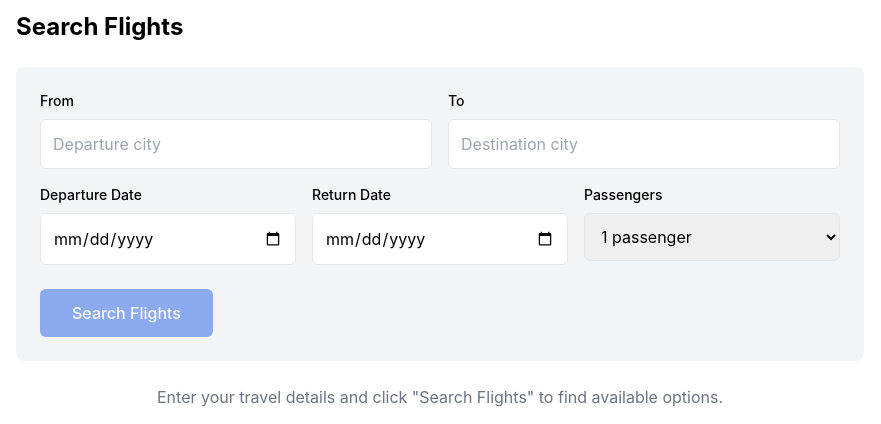
Test: FlightSearchComponent Mobile Responsiveness › search button is enabled when from and to fields are filled
Type "New York" into the field with placeholder "Departure city" at {"x": 236, "y": 144}, box x1=40 y1=119 x2=432 y2=169
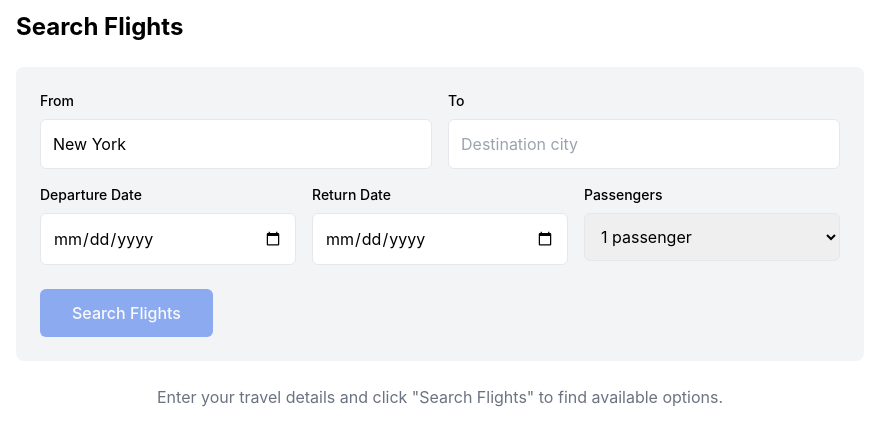
Type "Los Angeles" into the field with placeholder "Destination city" at {"x": 644, "y": 144}, box x1=448 y1=119 x2=840 y2=169
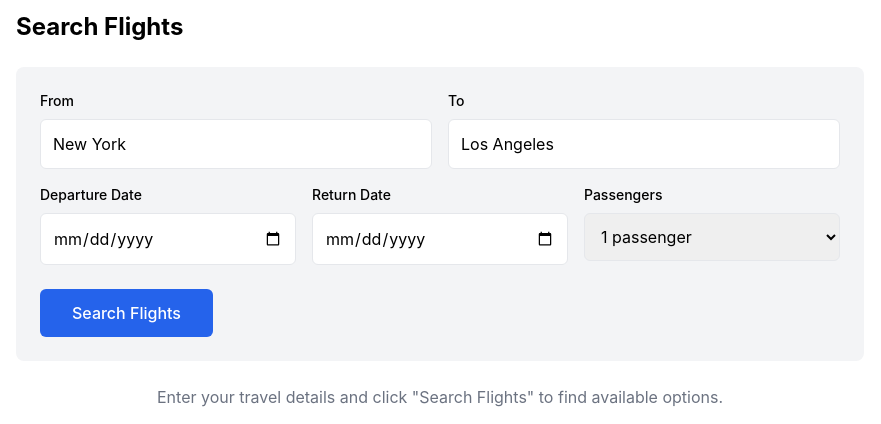
Expected: the button "Search Flights" is enabled, x1=40 y1=289 x2=213 y2=337
